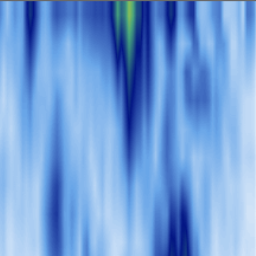defect: (106, 1, 152, 174), (154, 184, 193, 256), (47, 156, 62, 256), (23, 1, 38, 83), (165, 1, 176, 59), (185, 1, 195, 32)
